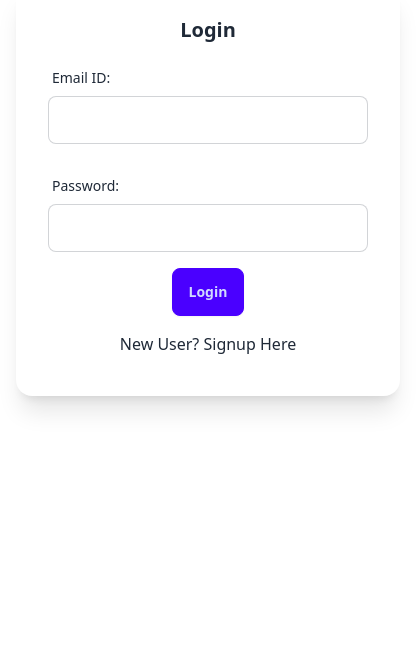
Test: Login › toggles between login and sign up forms
Click the text "New User? Signup Here". click: (208, 344)
box: [120,333,296,355]
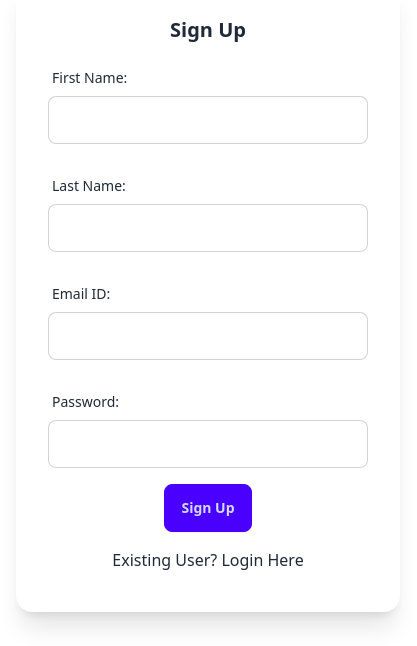
Expected: the field labelled "First Name:" is shown, [48,96,368,144]
Result: the heading "Sign Up" is shown at [170,16,246,43]
Result: the button "Sign Up" is shown at [164,484,252,532]
Click the text "Existing User? Login Here". click: (208, 560)
box: [112,549,304,571]
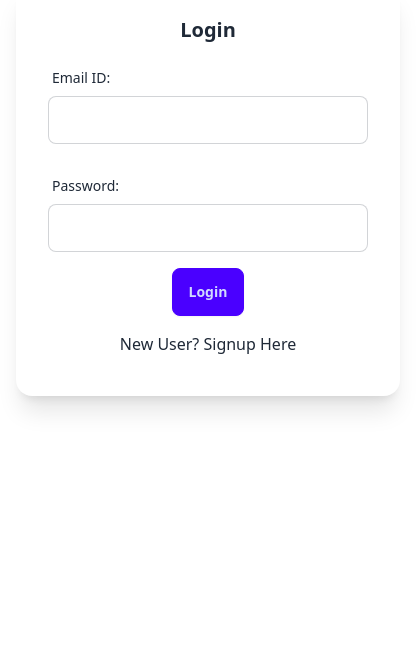
Result: the heading "Login" is shown at [180,16,236,43]
Result: the text labelled "First Name:" is gone
